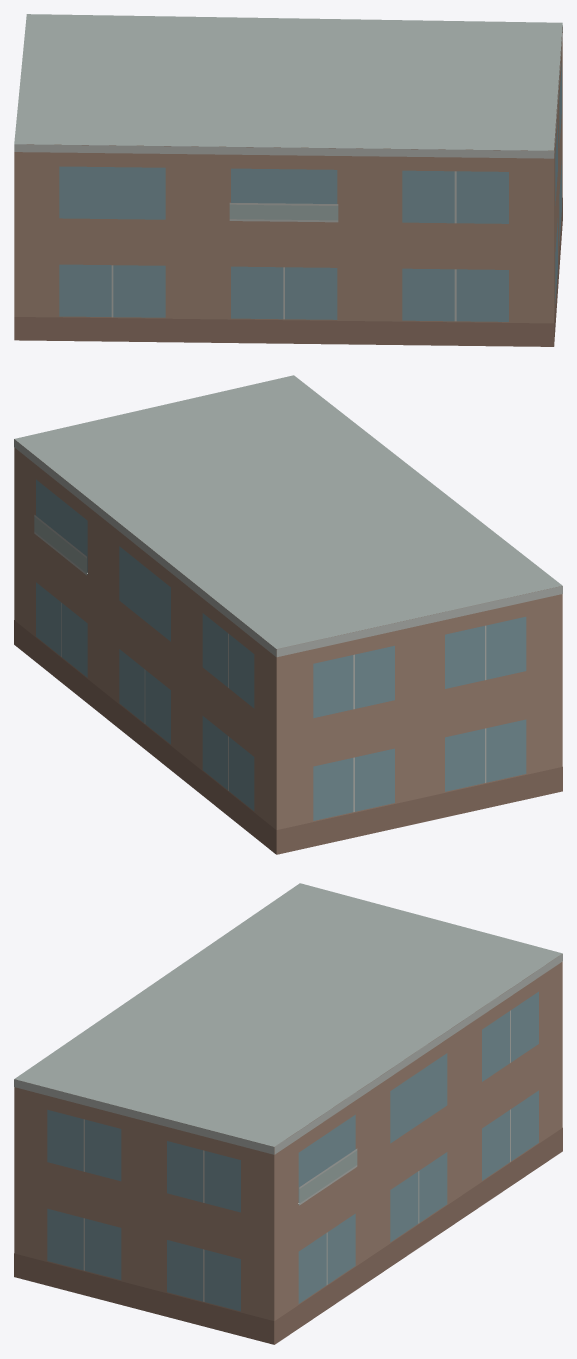
File: survey-upis-32879977.glb
3 views of the same model, one above another, from view 1: azimuth 30°, elevation 25°; view 2: azimuth 150°, elevation 25°; view 3: azimuth 270°, elevation 25° (orthographic). The views are drawn at different scales.
Visible parts, largest first — view 1: survey-upis-32879977.tmp; view 2: survey-upis-32879977.tmp; view 3: survey-upis-32879977.tmp.
Part boxes in pixels (x1,y1,x2,y2): survey-upis-32879977.tmp: [14, 14, 562, 346]; survey-upis-32879977.tmp: [14, 375, 562, 854]; survey-upis-32879977.tmp: [14, 883, 562, 1344].
Size of the model in its own units: 17.46 by 6.1 by 15.34.
